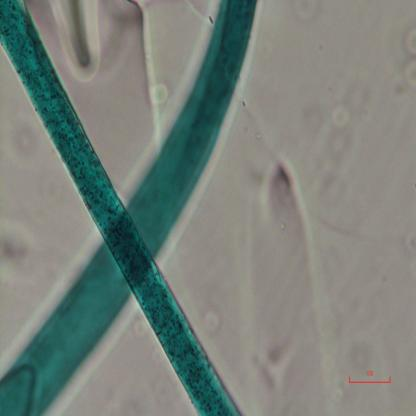Air bubble: (55, 0, 160, 92)
Background material: (270, 148, 308, 276), (0, 219, 37, 281), (393, 11, 416, 101), (327, 87, 359, 137), (389, 214, 416, 267), (152, 77, 175, 110)
Microfibre: (0, 0, 257, 415), (0, 0, 241, 414)
